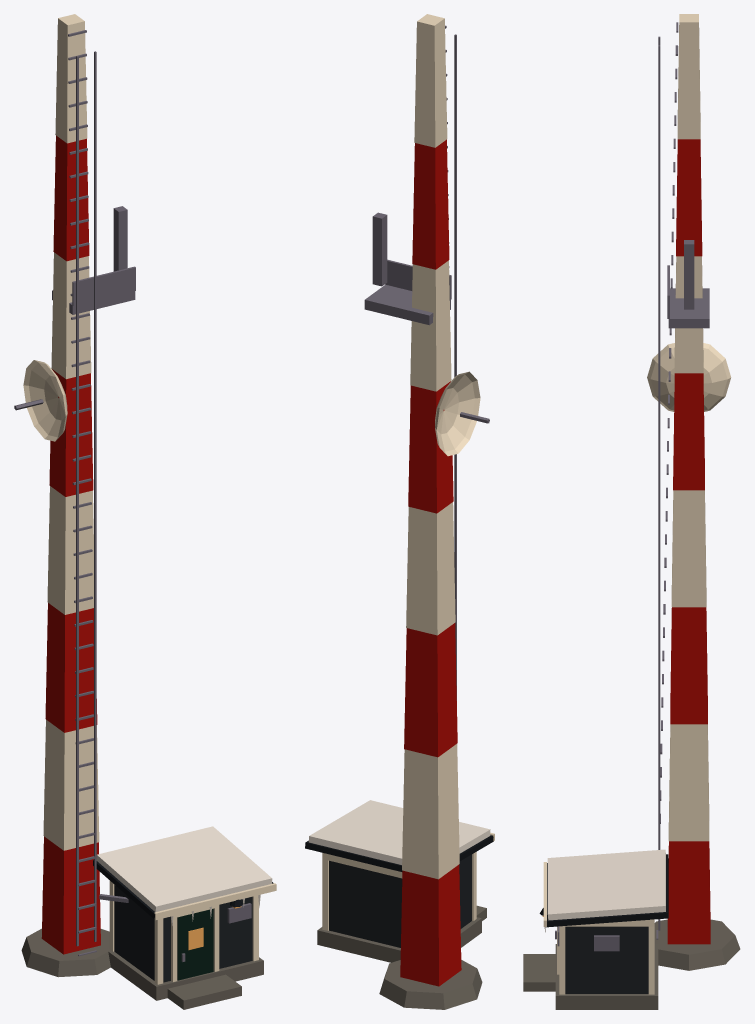
Rendered from rs_mast.glb.
3 views of the same model, side by side, from view 1: azimuth 30°, elevation 25°; view 2: azimuth 150°, elevation 25°; view 3: azimuth 270°, elevation 25° (orthographic). The views are drawn at different scales.
Parts seen in each view (by area): view 1: mast; view 2: mast; view 3: mast.
Part boxes in pixels (<box>): mast: <box>14,14,276,1009</box>; mast: <box>305,14,494,1009</box>; mast: <box>523,14,740,1009</box>.
Size of the model in its own units: 4.2 by 20 by 4.22.
